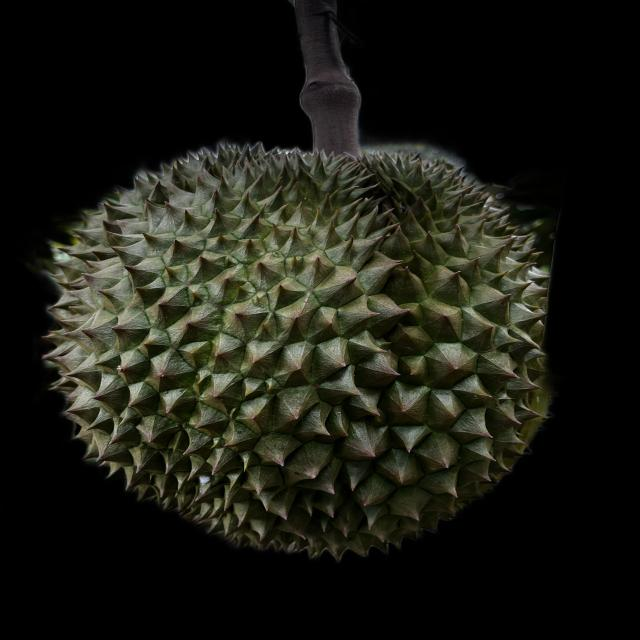immature: (36, 141, 554, 556)
